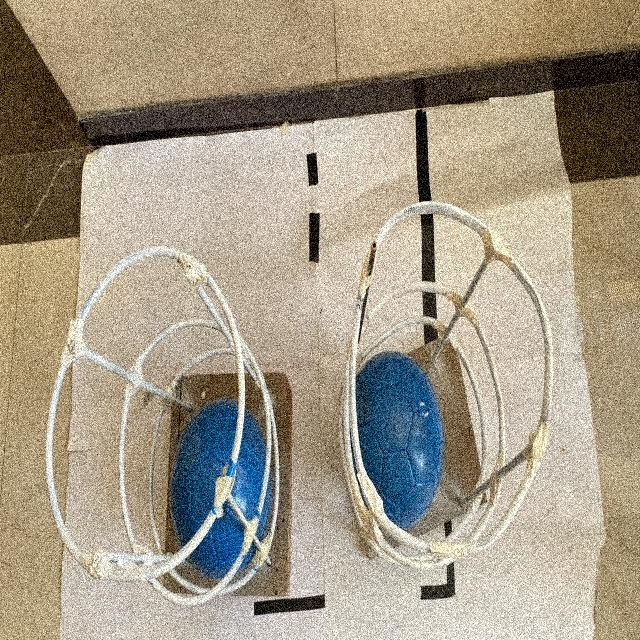blue_ball: (165, 368, 275, 575), (350, 344, 446, 534)
silo: (35, 232, 301, 624), (331, 198, 569, 600)
